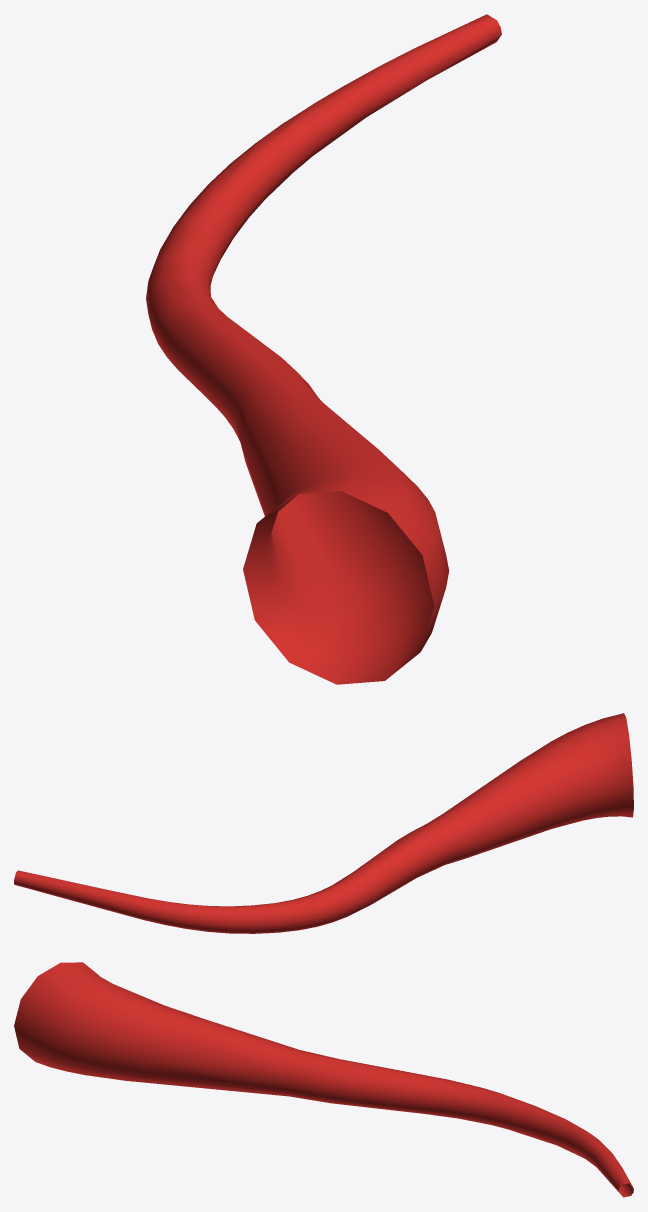
File: circulatorio-posterior-branch-of-renal-artery-l.glb
3 views of the same model, one above another, from view 1: azimuth 30°, elevation 25°; view 2: azimuth 150°, elevation 25°; view 3: azimuth 270°, elevation 25° (orthographic). The views are drawn at different scales.
Parts seen in each view (by area): view 1: Posterior branch of renal artery.l; view 2: Posterior branch of renal artery.l; view 3: Posterior branch of renal artery.l.
Boxes of the visible parts, x1=… form: Posterior branch of renal artery.l: x1=146, y1=14, x2=501, y2=684; Posterior branch of renal artery.l: x1=14, y1=713, x2=633, y2=933; Posterior branch of renal artery.l: x1=14, y1=962, x2=633, y2=1197.
Size of the model in its own units: 0.0286 by 0.00699 by 0.039.
